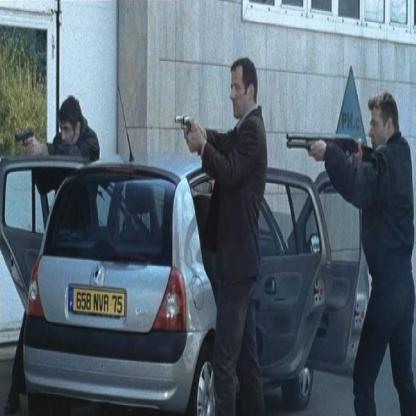Gun: (284, 125, 382, 168), (172, 111, 196, 138), (14, 124, 37, 149)
